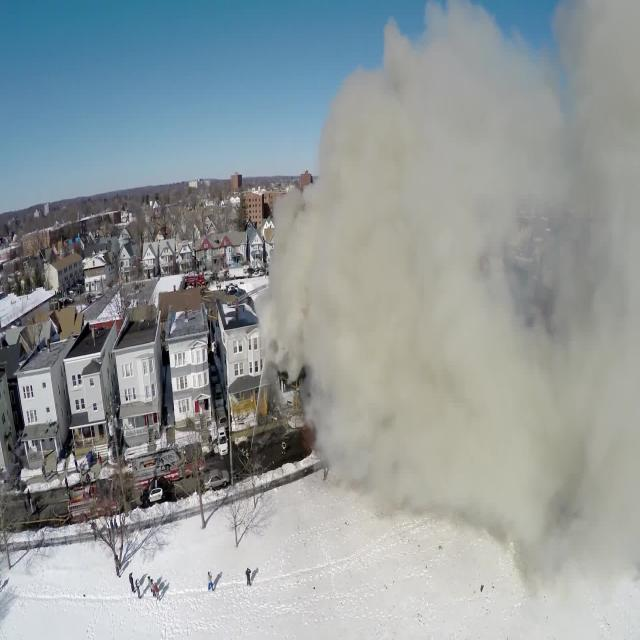smoke: (329, 101, 634, 560)
